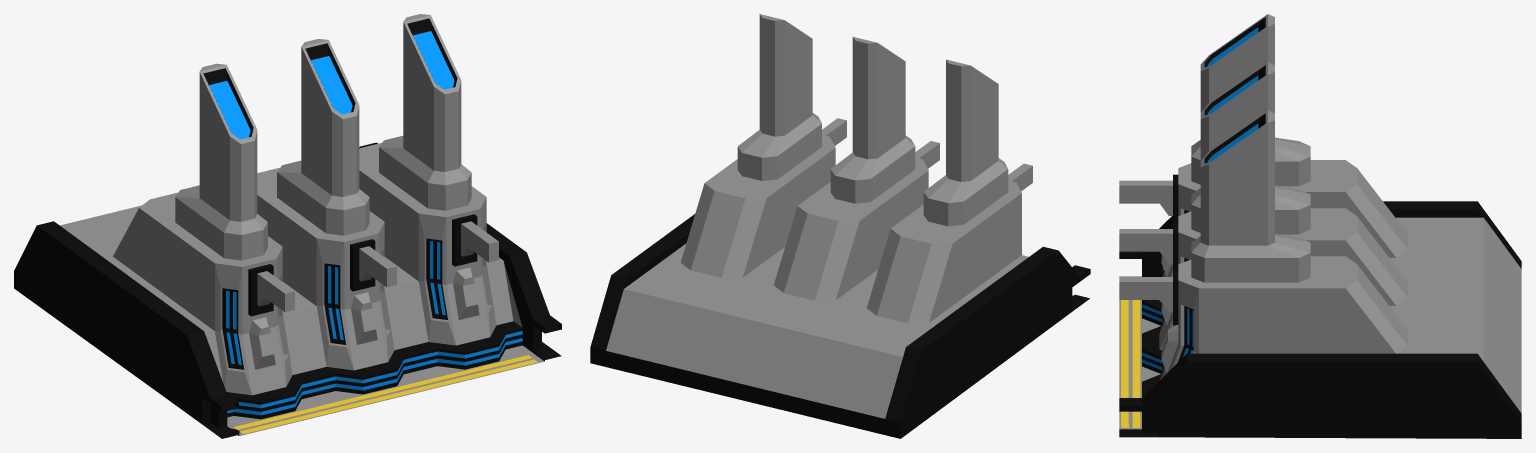
The model's file is SM_Powerplant.FBX.
3 renders of one model, left to right at view 1: azimuth 30°, elevation 25°; view 2: azimuth 150°, elevation 25°; view 3: azimuth 270°, elevation 25°, orthographic. The views are drawn at different scales.
Parts seen in each view (by area): view 1: Box003; view 2: Box003; view 3: Box003.
Part boxes in pixels (bbox=[...]): Box003: bbox=[14, 14, 561, 438]; Box003: bbox=[590, 14, 1090, 438]; Box003: bbox=[1119, 14, 1521, 438].
Bounding box in the file's own units: 10000 × 8432 × 10601.
